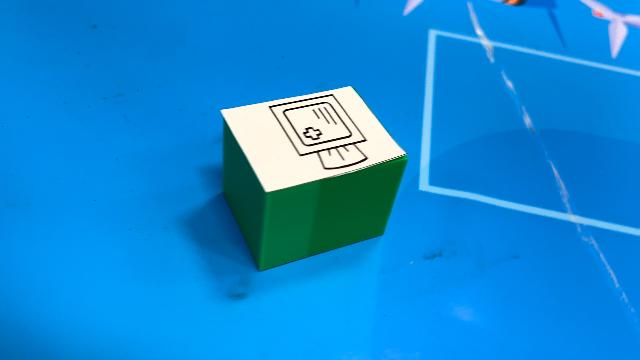napkin: (218, 84, 410, 272)
